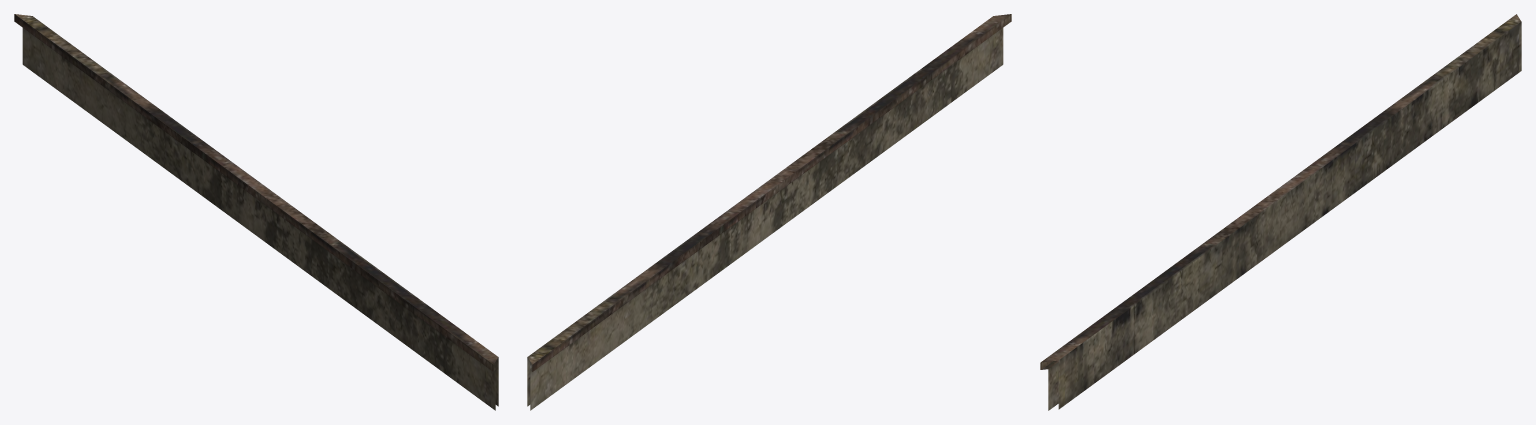
File: Roof_Sidewall_01.FBX
The picture shows the model from 3 angles, left to right: view 1: azimuth 30°, elevation 25°; view 2: azimuth 150°, elevation 25°; view 3: azimuth 330°, elevation 25°; orthographic projection.
Parts seen in each view (by area): view 1: Roof_Sidewall_01; view 2: Roof_Sidewall_01; view 3: Roof_Sidewall_01.
Part boxes in pixels (x1,y1,x2,y2): Roof_Sidewall_01: (14,14,498,410); Roof_Sidewall_01: (527,14,1011,410); Roof_Sidewall_01: (1040,14,1521,410).
Bounding box in the file's own units: 22.67 × 92.93 × 1626.
